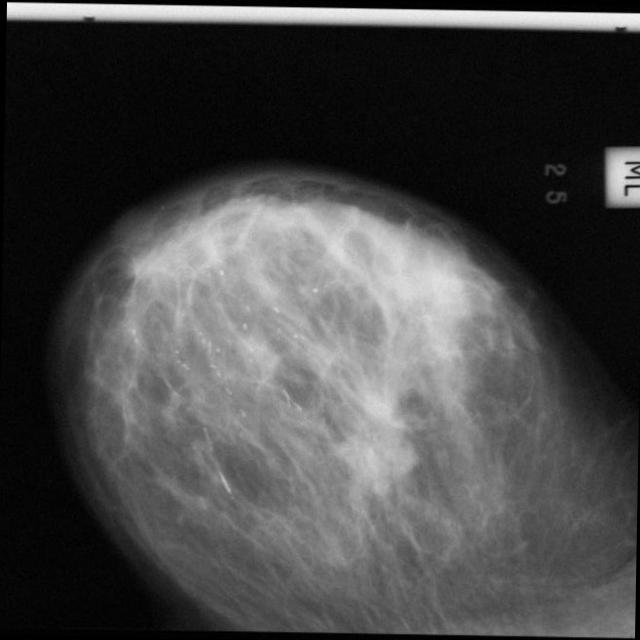SPIC: (267, 326, 488, 548)
